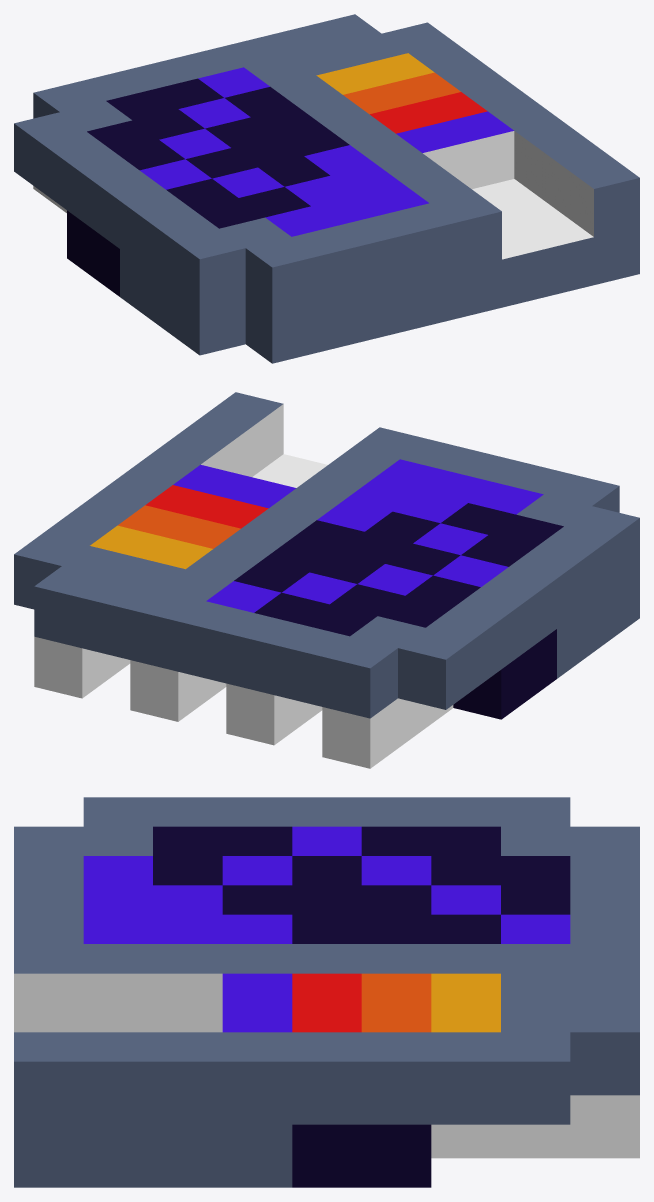
Rendered from BIT_CARTRIDGE.fbx.
3 renders of one model, top to bottom at view 1: azimuth 30°, elevation 25°; view 2: azimuth 150°, elevation 25°; view 3: azimuth 270°, elevation 25°, orthographic. The views are drawn at different scales.
Parts seen in each view (by area): view 1: Cartridge; view 2: Cartridge; view 3: Cartridge.
Boxes of the visible parts, left/top/right/bottom form: Cartridge: left=14, top=14, right=639, bottom=363; Cartridge: left=14, top=392, right=639, bottom=768; Cartridge: left=14, top=797, right=639, bottom=1187.
Size of the model in its own units: 56.25 by 12.5 by 56.25.
Materials: 1 (1 with a texture image).
